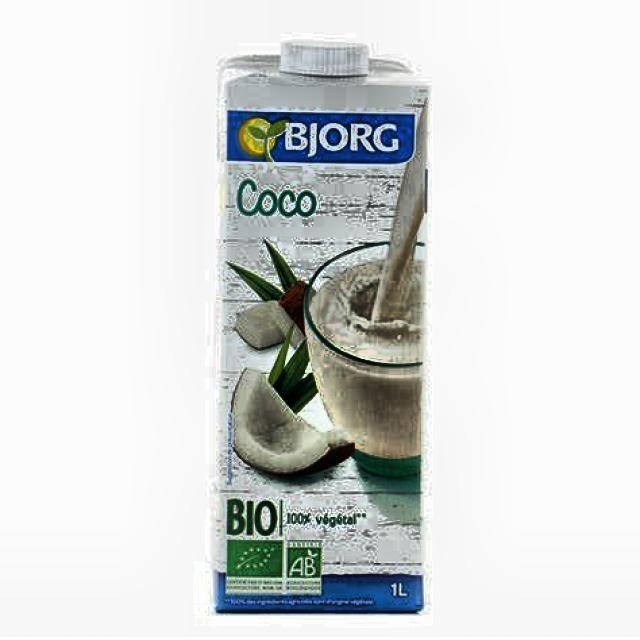cardboard: (213, 41, 430, 614)
